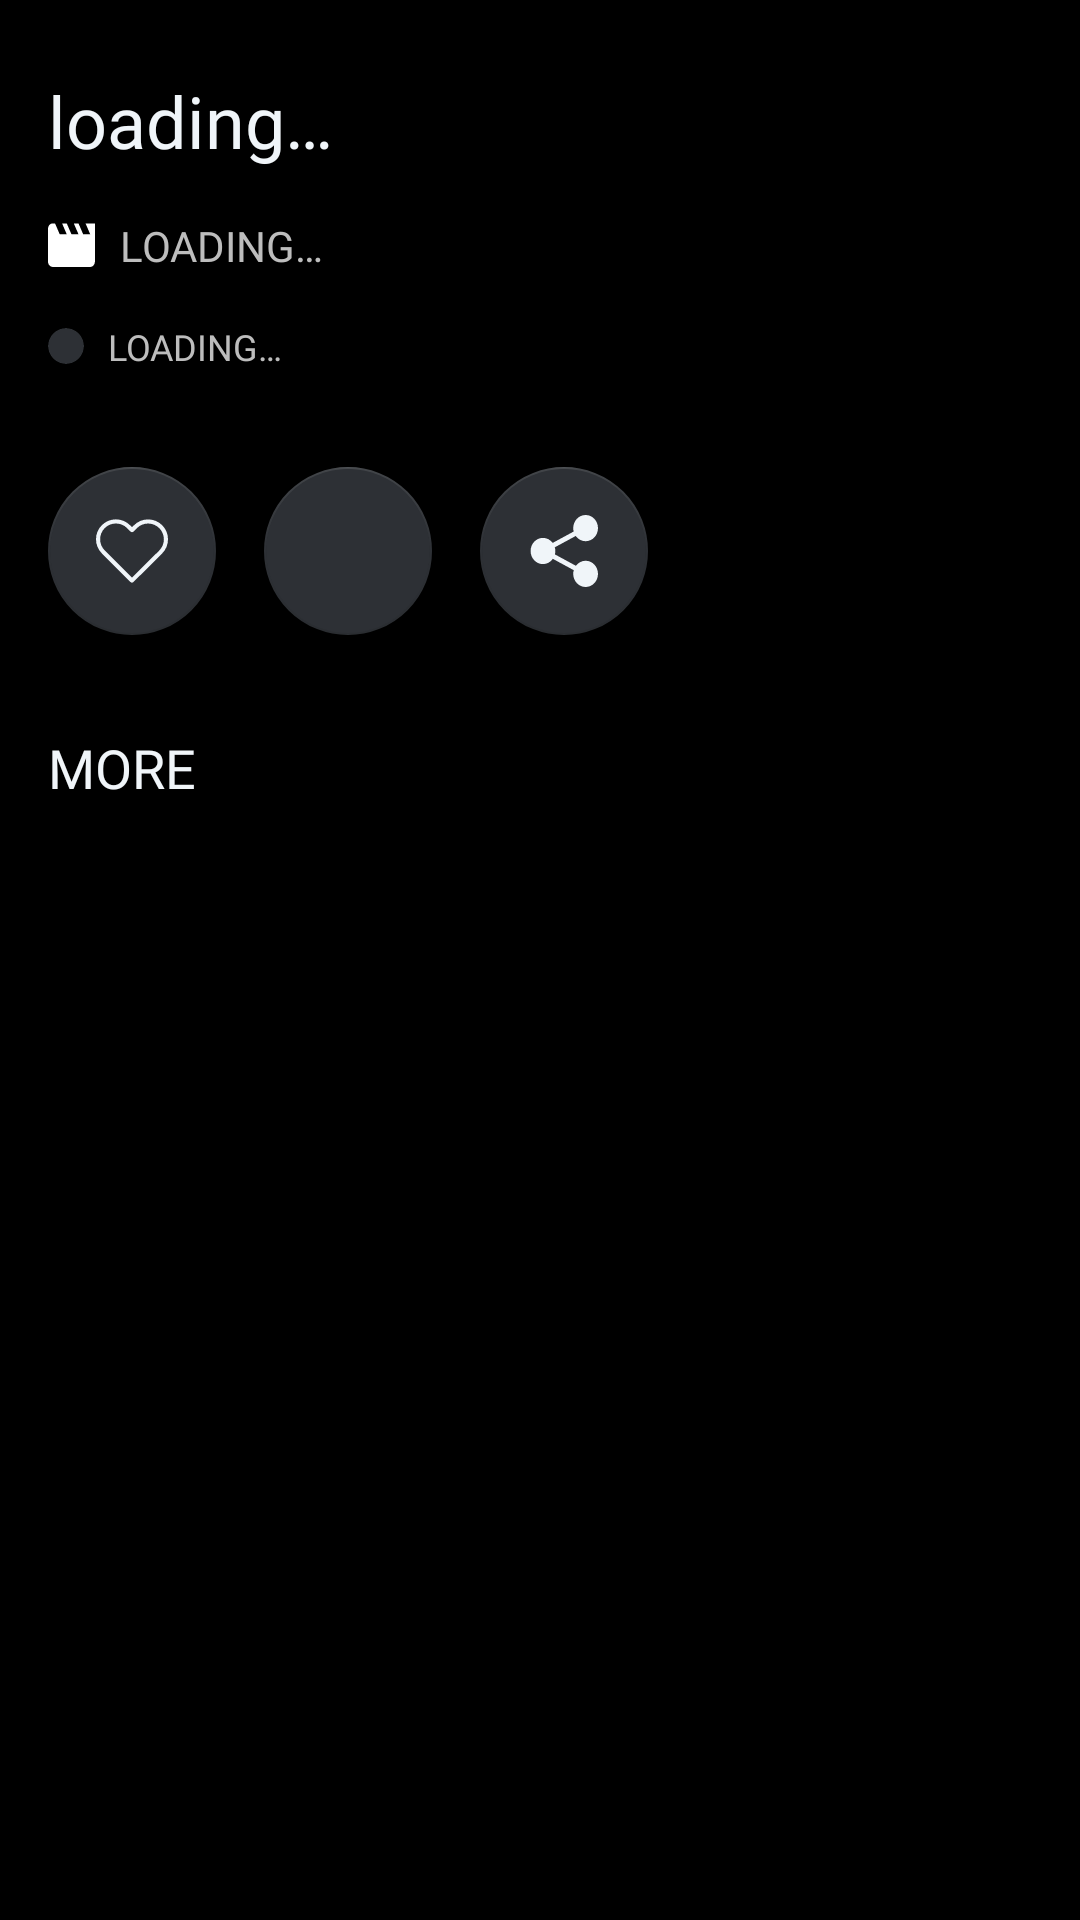

Point at icon controls on the screen. Image size 1080x1920, points as point (x, y).
fav: point (132, 551)
movie: point (71, 245)
share: point (564, 551)
